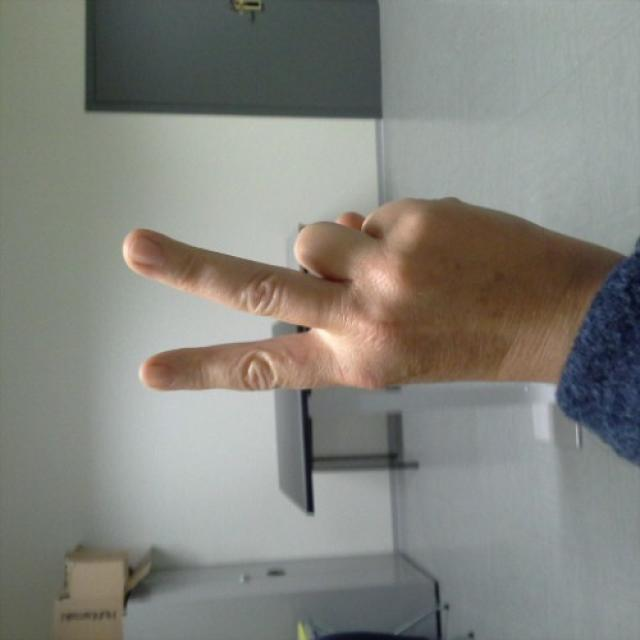scissors: (122, 199, 534, 392)
